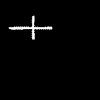single_crochet: (9, 16, 51, 38)
